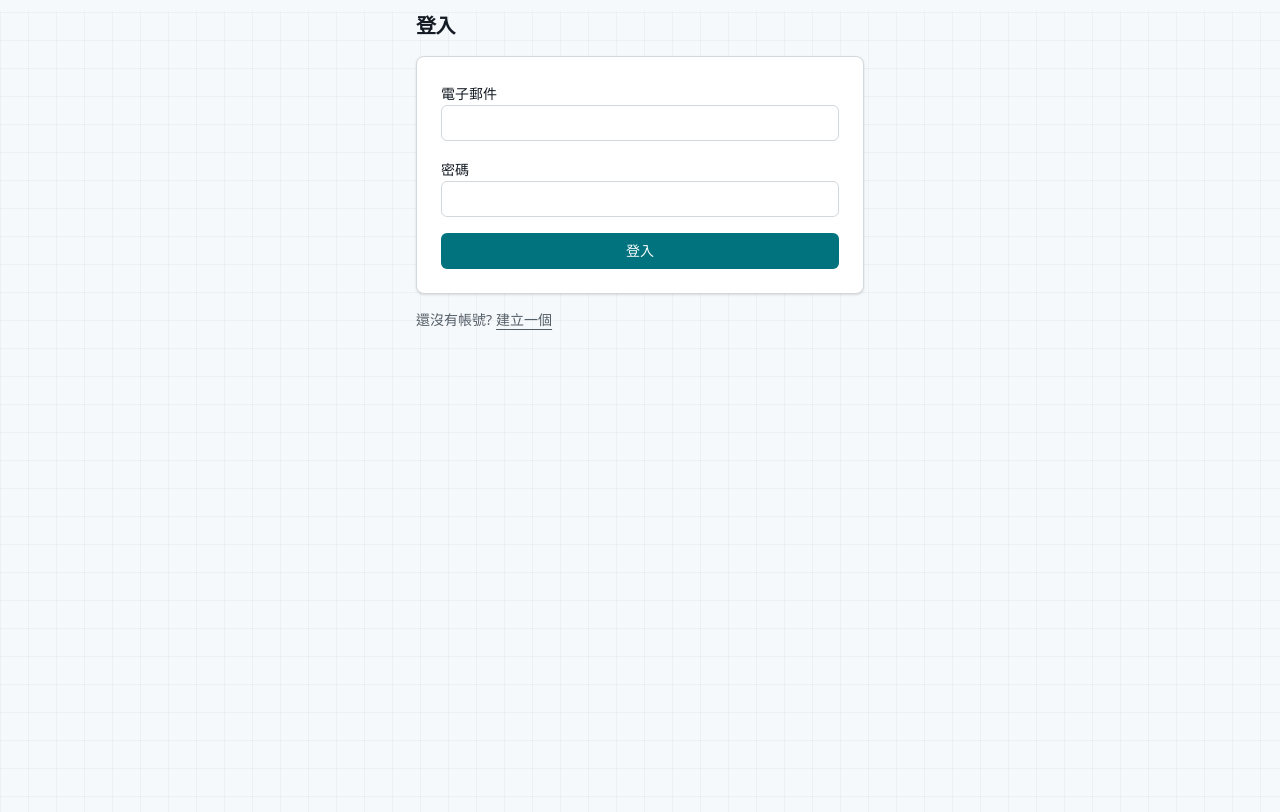
Test: LoginPage › shows an inline alert when credentials are rejected
Type "analyst@example.org" into the field labelled "電子郵件" at coordinates (640, 123), box [441,105,839,141]
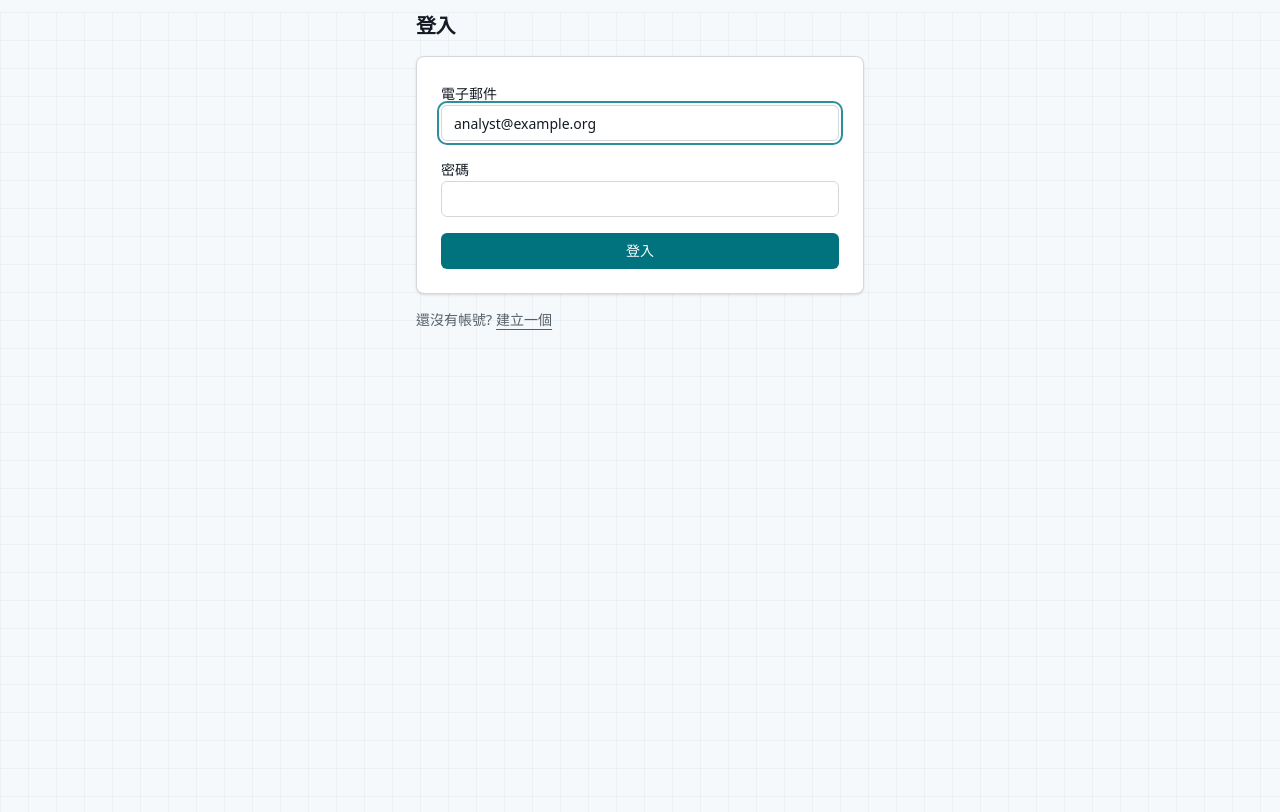
Type "wrong-password" into the password field labelled "密碼" at coordinates (640, 199), box [441,181,839,217]
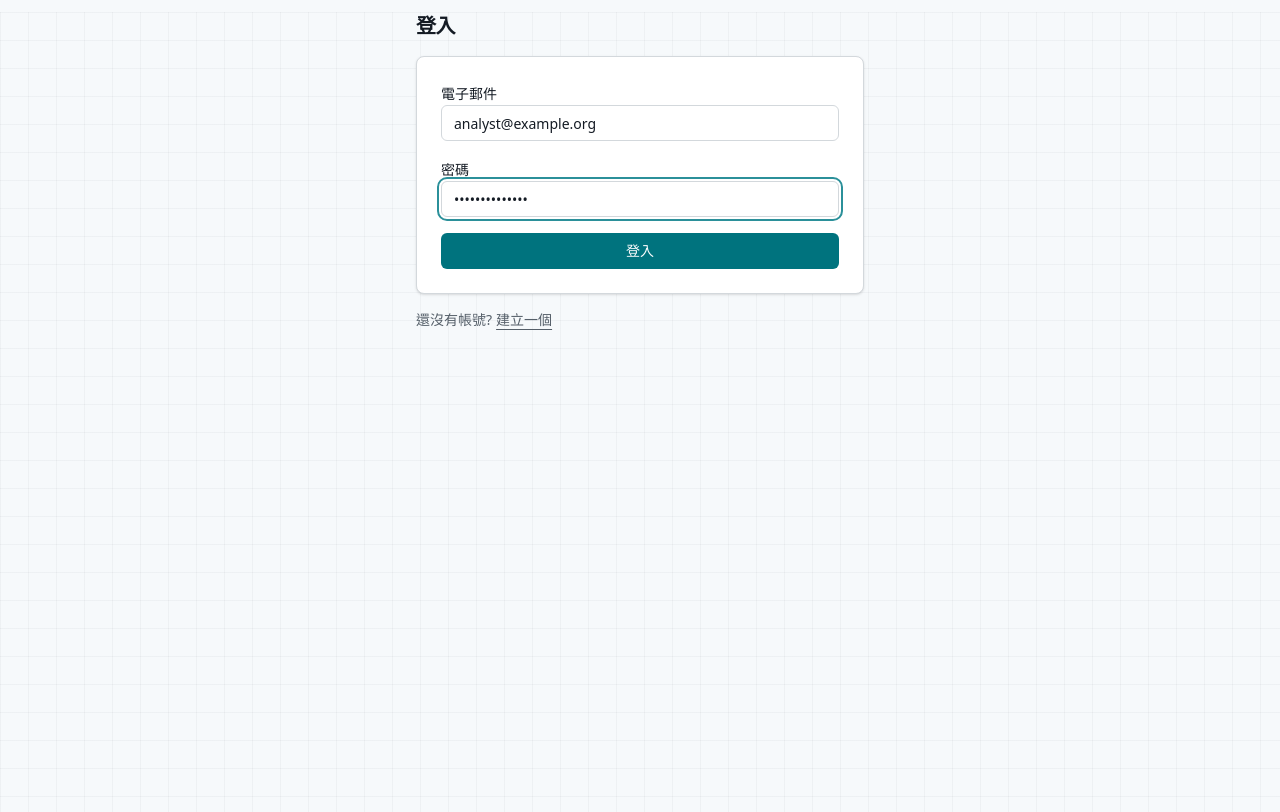
Click the button "登入" at coordinates (640, 251), box [441,233,839,269]
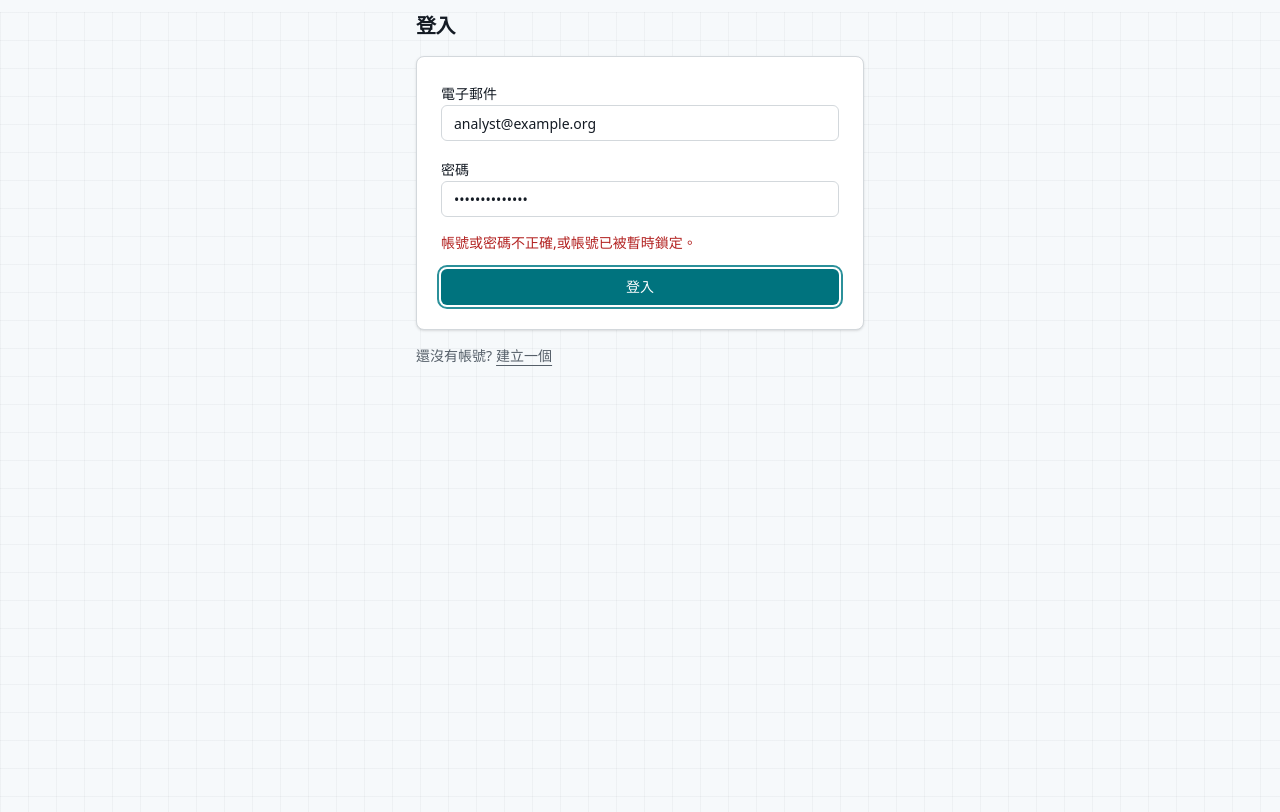
Expected: the message shows "帳號或密碼不正確", [441,233,697,252]
